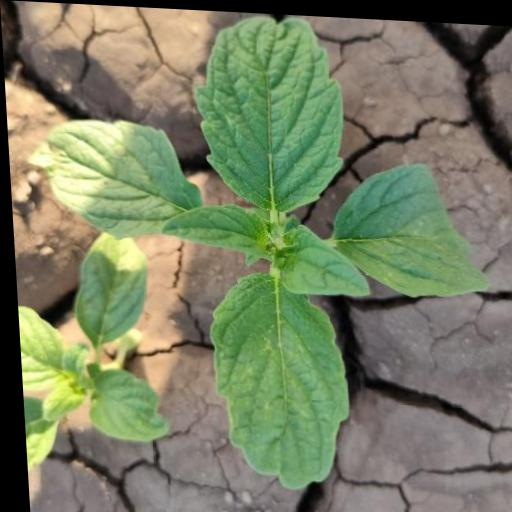crop: (35, 4, 483, 480), (10, 213, 192, 492)
